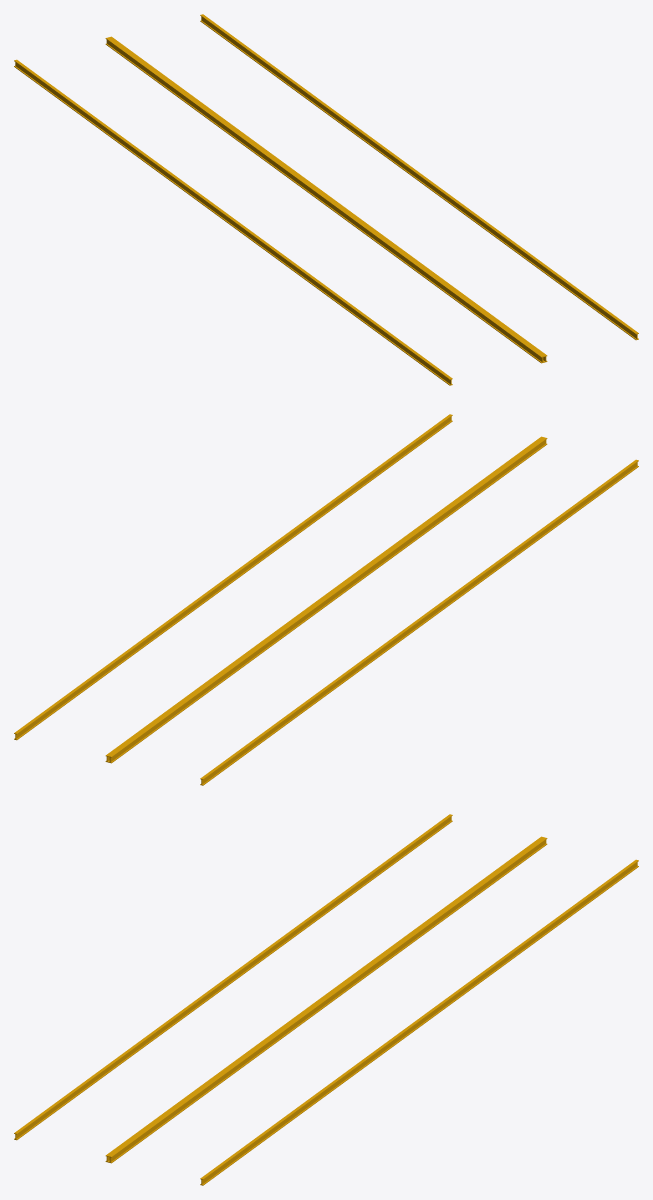
File: DoubleCraneBridge_30ft.fbx
3 views of the same model, one above another, from view 1: azimuth 30°, elevation 25°; view 2: azimuth 150°, elevation 25°; view 3: azimuth 330°, elevation 25° (orthographic).
Parts seen in each view (by area): view 1: CraneBridgeDouble_30ft; view 2: CraneBridgeDouble_30ft; view 3: CraneBridgeDouble_30ft.
Boxes of the visible parts, x1=… form: CraneBridgeDouble_30ft: x1=14, y1=14, x2=638, y2=385; CraneBridgeDouble_30ft: x1=14, y1=414, x2=638, y2=785; CraneBridgeDouble_30ft: x1=14, y1=814, x2=638, y2=1185.
Bounding box in the file's own units: 1890 × 60.97 × 7537.
